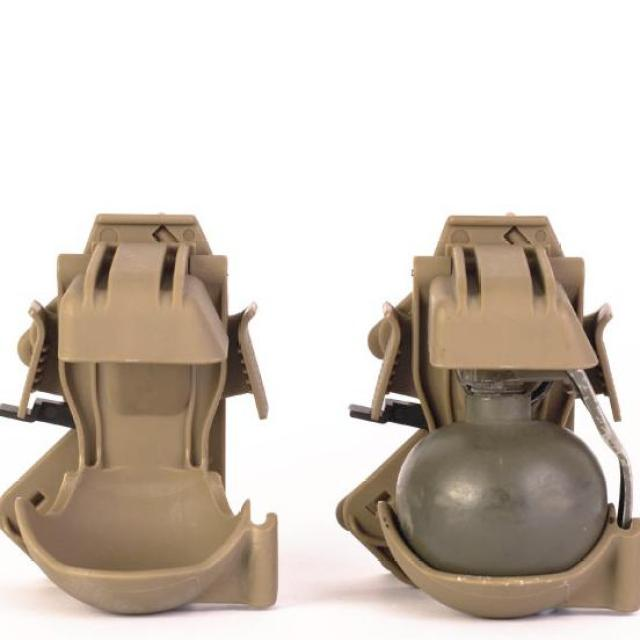grenade: (395, 369, 636, 621)
